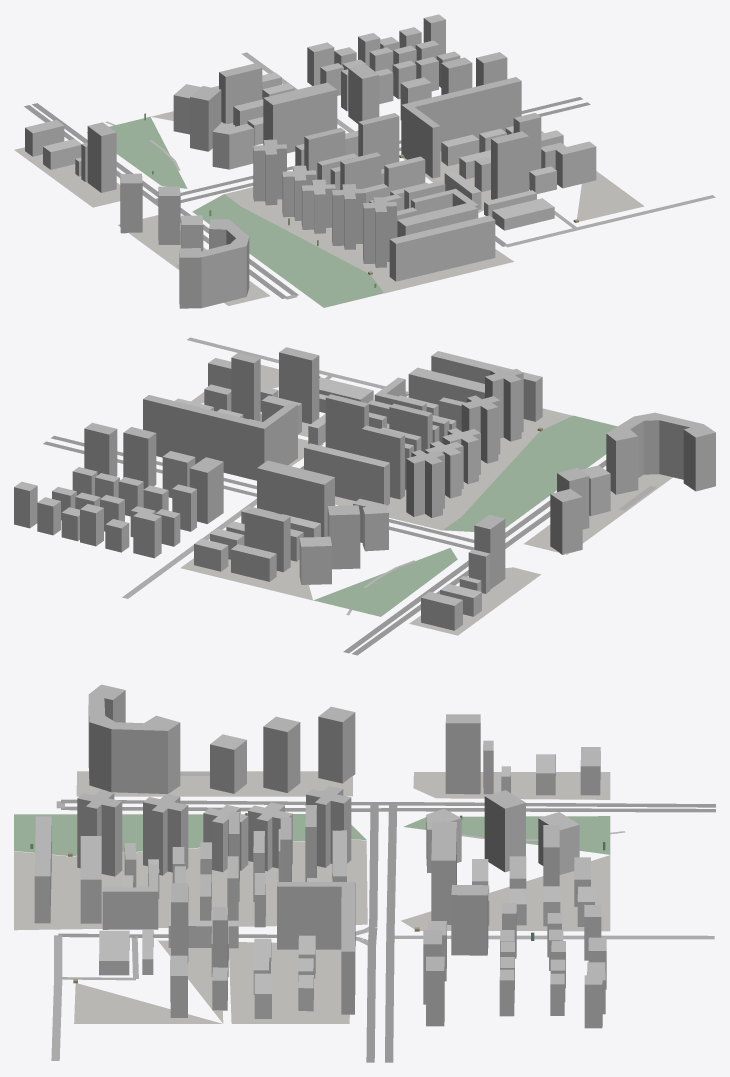
3 renders of one model, top to bottom at view 1: azimuth 30°, elevation 25°; view 2: azimuth 150°, elevation 25°; view 3: azimuth 270°, elevation 25°, orthographic. The views are drawn at different scales.
Size of the model in its own units: 623 by 79.95 by 589.
